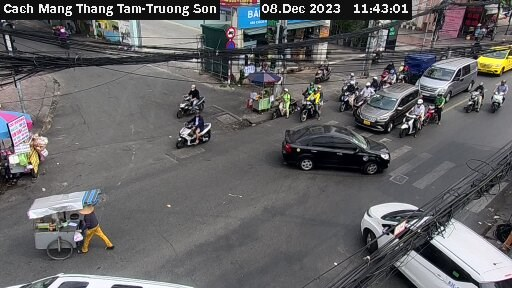car: (360, 201, 511, 288), (281, 119, 393, 181), (357, 84, 420, 129), (418, 57, 476, 105), (478, 42, 512, 76)
motorbike: (173, 89, 222, 116), (174, 116, 212, 150), (402, 102, 423, 137), (488, 80, 511, 110), (299, 93, 326, 117), (424, 97, 445, 127), (275, 91, 296, 115), (311, 63, 335, 83), (338, 72, 359, 93), (339, 88, 354, 109)
